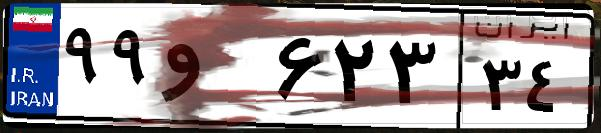2: (330, 28, 385, 110)
3: (385, 28, 445, 110), (475, 38, 525, 113)
4: (525, 38, 570, 115)
6: (270, 28, 330, 110)
9: (57, 26, 110, 100), (110, 28, 158, 98)
و: (158, 20, 270, 120)
